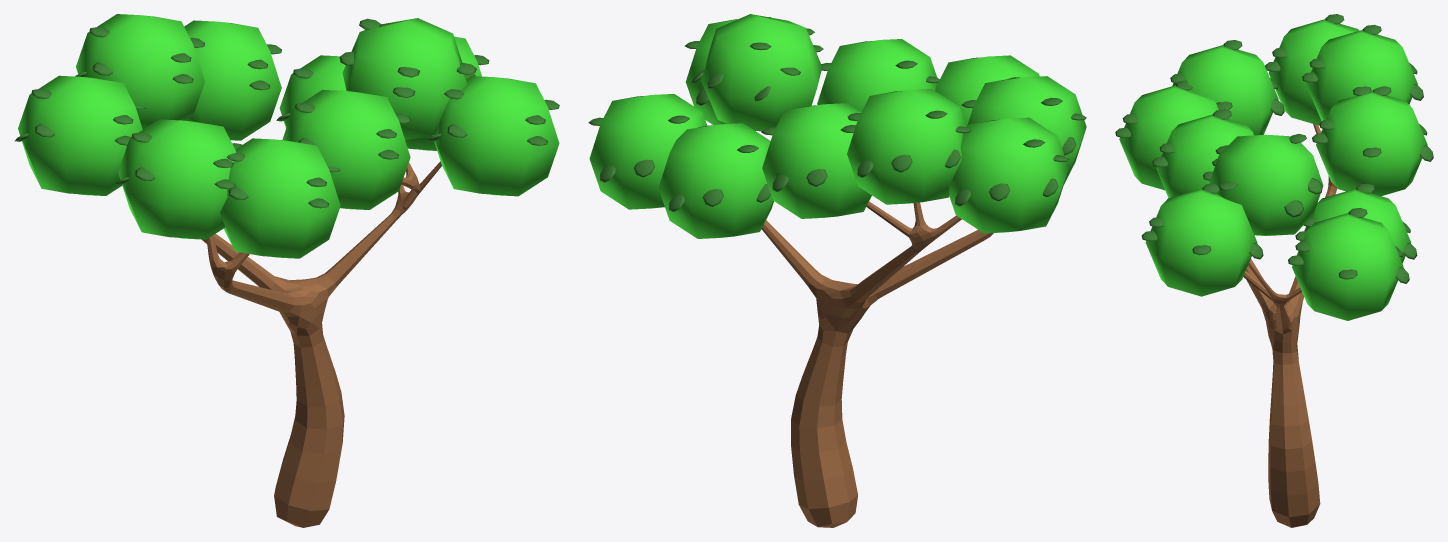
File: Arbol-Verano.fbx
3 views of the same model, side by side, from view 1: azimuth 30°, elevation 25°; view 2: azimuth 150°, elevation 25°; view 3: azimuth 270°, elevation 25° (orthographic). The views are drawn at different scales.
Parts seen in each view (by area): view 1: Plane, Cube.001, Cube.007, Cube.008, Cube.006, Cube, Cube.005, Cube.010, Cube.009, Cube.004, Cube.003; view 2: Plane, Cube.010, Cube.008, Cube.005, Cube.004, Cube.009, Cube.003, Cube, Cube.006, Cube.007, Cube.001; view 3: Plane, Cube.003, Cube.001, Cube.009, Cube.005, Cube.010, Cube.006, Cube.007, Cube, Cube.008, Cube.004.
Part boxes in pixels (x1,y1,x2,y2): Plane: (201,161,441,527); Cube.001: (427,76,559,196); Cube.007: (220,138,340,258); Cube.008: (14,75,146,195); Cube.006: (115,119,241,239); Cube: (282,89,410,209); Cube.005: (339,18,476,139); Cube.010: (75,14,204,129); Cube.009: (184,20,281,140); Cube.004: (276,55,346,128); Cube.003: (405,36,489,150); Plane: (761,201,993,527); Cube.010: (847,89,970,204); Cube.008: (949,117,1068,233); Cube.005: (691,14,823,131); Cube.004: (658,123,773,238); Cube.009: (761,103,871,218); Cube.003: (588,94,706,209); Cube: (817,39,939,112); Cube.006: (961,76,1086,184); Cube.007: (935,55,1039,125); Cube.001: (685,17,770,130); Plane: (1243,124,1337,527); Cube.003: (1288,208,1409,320); Cube.001: (1141,183,1263,296); Cube.009: (1312,86,1433,196); Cube.005: (1209,134,1323,235); Cube.010: (1302,24,1423,120); Cube.006: (1170,40,1284,135); Cube.007: (1115,80,1218,190); Cube: (1152,109,1253,198); Cube.008: (1265,14,1359,125); Cube.004: (1295,183,1417,263).
Size of the model in its own units: 713 by 728 by 478.
